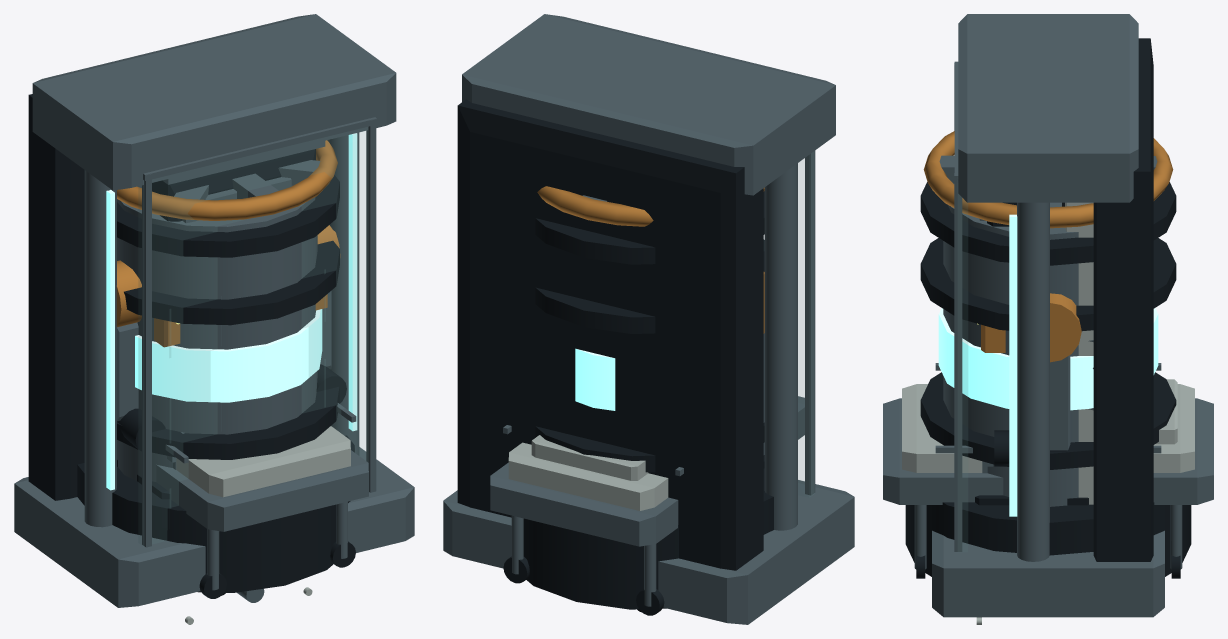
File: facility.glb
The picture shows the model from 3 angles, left to right: view 1: azimuth 30°, elevation 25°; view 2: azimuth 150°, elevation 25°; view 3: azimuth 270°, elevation 25°; orthographic projection. The views are drawn at different scales.
Visible parts, largest first — view 1: pod, turbine, podLid, bed, rotor, rack, leftArm, sentinel, rightArm; view 2: pod, turbine, bed, podLid, rotor; view 3: pod, turbine, bed, podLid, rotor, rightArm, sentinel.
Boxes of the visible parts, bbox=[...] form: pod: bbox=[14, 14, 414, 607]; turbine: bbox=[77, 160, 354, 592]; podLid: bbox=[139, 117, 376, 547]; bed: bbox=[156, 403, 368, 598]; rotor: bbox=[117, 140, 337, 220]; rack: bbox=[152, 141, 325, 223]; leftArm: bbox=[117, 322, 165, 451]; sentinel: bbox=[116, 225, 340, 347]; rightArm: bbox=[316, 290, 346, 403]; pod: bbox=[443, 14, 854, 624]; turbine: bbox=[523, 191, 773, 609]; bed: bbox=[490, 396, 804, 615]; podLid: bbox=[798, 150, 815, 496]; rotor: bbox=[537, 186, 764, 226]; pod: bbox=[932, 14, 1164, 617]; turbine: bbox=[905, 182, 1191, 576]; bed: bbox=[883, 363, 1213, 578]; podLid: bbox=[954, 61, 967, 551]; rotor: bbox=[923, 131, 1173, 228]; rightArm: bbox=[994, 355, 1070, 466]; sentinel: bbox=[977, 293, 1093, 410].
Size of the model in its own units: 2.3 by 3.81 by 2.2.
